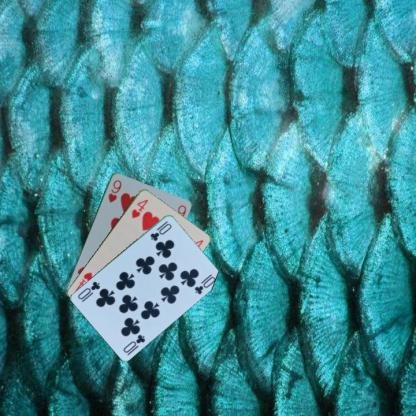10c: (147, 218, 173, 242), (121, 332, 147, 354)
4h: (128, 196, 150, 219)
9h: (106, 177, 122, 204)
